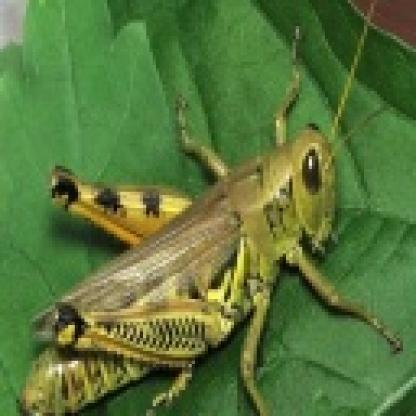grasshopper: (16, 37, 404, 416)
